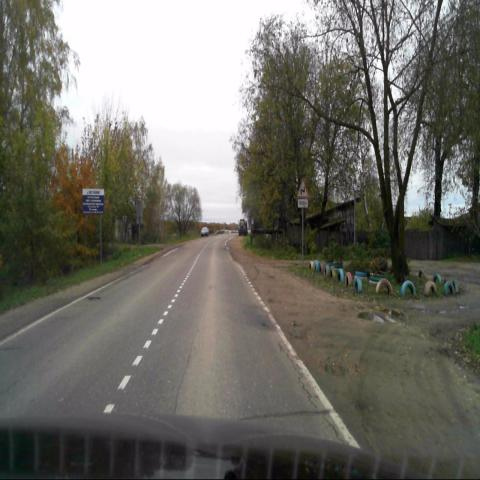1_12: (298, 179, 308, 198)
